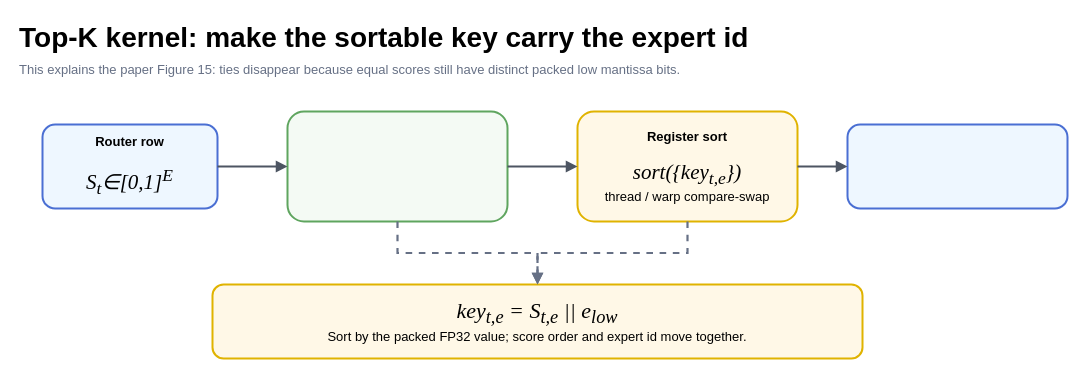
Some shapes in this 1085 by 376 pixel diagram are drawn without their labels. Here are the shapes that lost their labels. From the top down, the box of each, then its label:
(286, 110, 508, 222): Pack key key t,e =pack(S t,e ,e) column id in low bits
(846, 123, 1068, 209): Top-K (I topK ,S topK )
